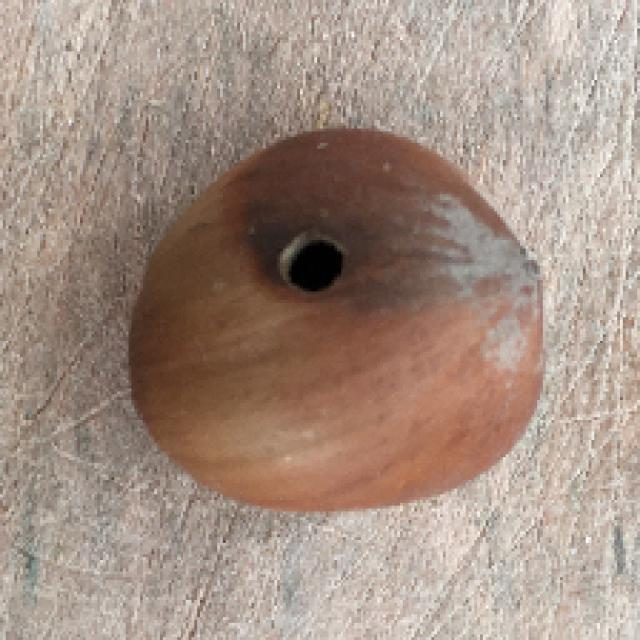damagedHazelnut: (124, 101, 552, 541)
